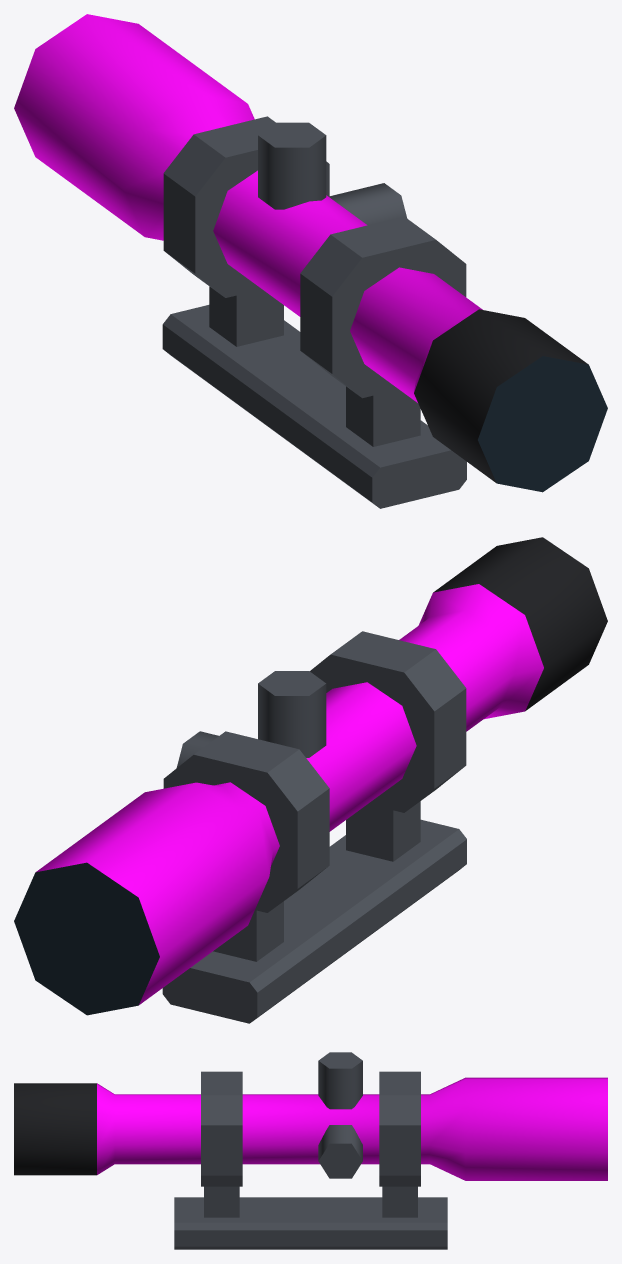
The model's file is att_scope_4x.glb.
3 renders of one model, top to bottom at view 1: azimuth 30°, elevation 25°; view 2: azimuth 150°, elevation 25°; view 3: azimuth 270°, elevation 25°, orthographic. The views are drawn at different scales.
Parts seen in each view (by area): view 1: att_scope_4x__body; view 2: att_scope_4x__body; view 3: att_scope_4x__body.
Boxes of the visible parts, x1=… form: att_scope_4x__body: x1=14, y1=14, x2=607, y2=508; att_scope_4x__body: x1=14, y1=537, x2=607, y2=1023; att_scope_4x__body: x1=14, y1=1052, x2=607, y2=1249.
Size of the model in its own units: 0.044 by 0.0655 by 0.2.
Materials: 1 (1 with a texture image).
